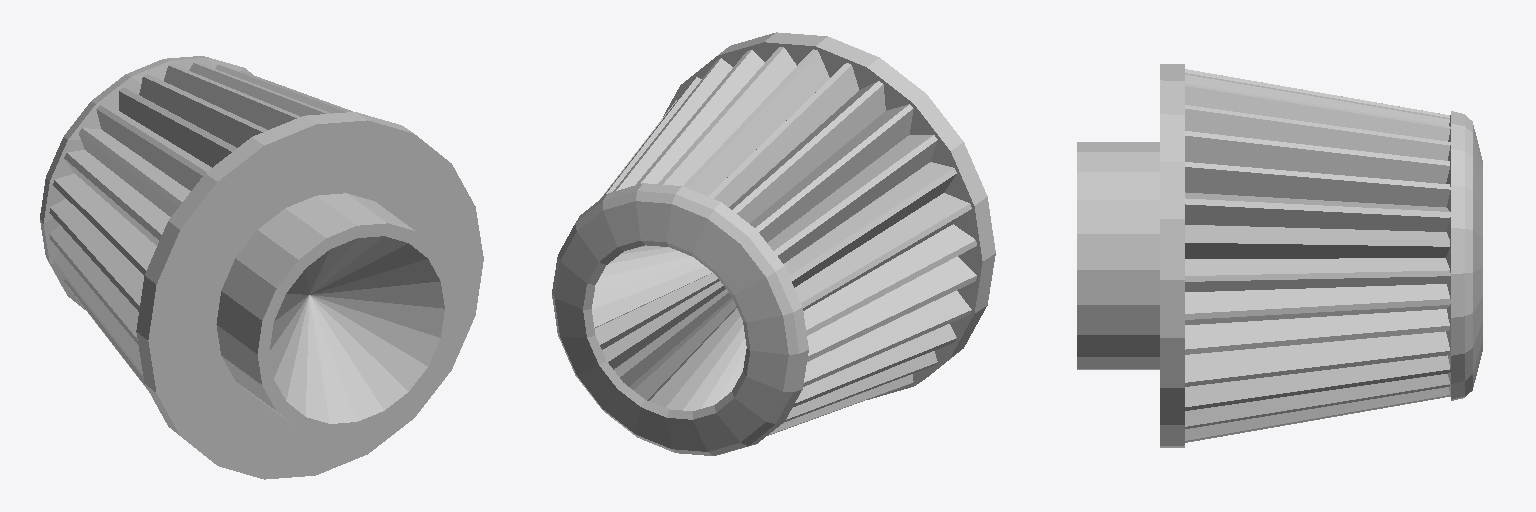
The model's file is motor.obj.
3 views of the same model, side by side, from view 1: azimuth 30°, elevation 25°; view 2: azimuth 150°, elevation 25°; view 3: azimuth 270°, elevation 25° (orthographic).
Parts seen in each view (by area): view 1: uploads_files_[number redacted]_apexi_air_filter; view 2: uploads_files_[number redacted]_apexi_air_filter; view 3: uploads_files_[number redacted]_apexi_air_filter.
Boxes of the visible parts, <box> form: uploads_files_[number redacted]_apexi_air_filter: <box>40,56,483,479</box>; uploads_files_[number redacted]_apexi_air_filter: <box>552,32,995,455</box>; uploads_files_[number redacted]_apexi_air_filter: <box>1077,64,1482,447</box>.
Size of the model in its own units: 12.48 by 12.48 by 13.05.